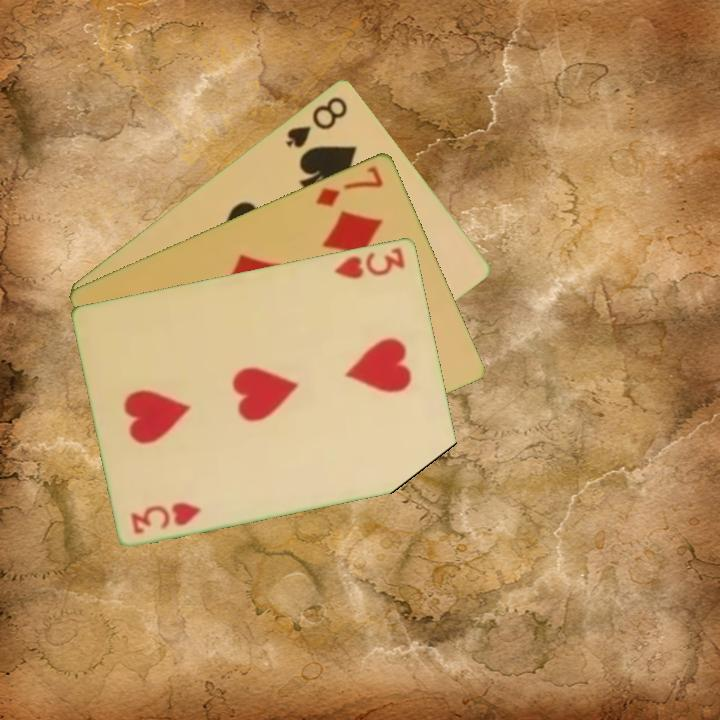3h: (331, 243, 409, 281), (127, 498, 205, 536)
7d: (312, 162, 386, 210)
8s: (282, 92, 351, 151)
